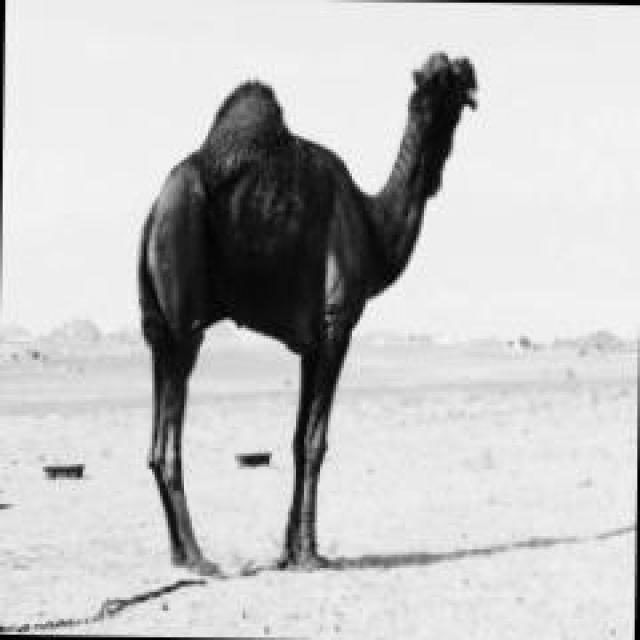Camel: (134, 48, 478, 576)
